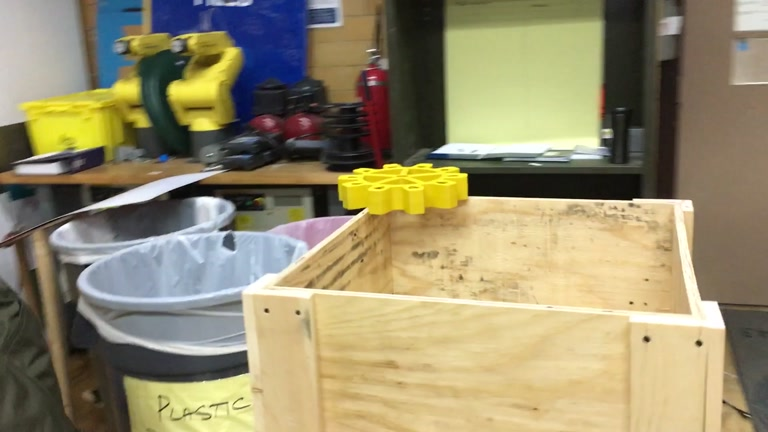gear: (337, 160, 469, 218)
